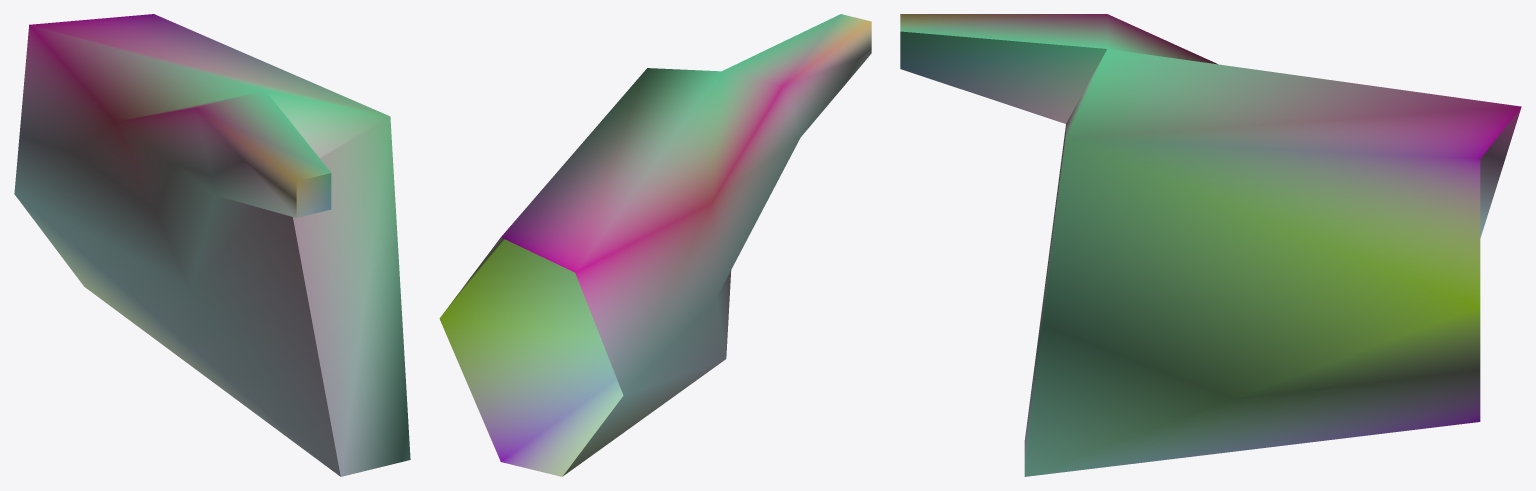
3 renders of one model, left to right at view 1: azimuth 30°, elevation 25°; view 2: azimuth 150°, elevation 25°; view 3: azimuth 270°, elevation 25°, orthographic. The views are drawn at different scales.
Visible parts, largest first — view 1: part; view 2: part; view 3: part.
Part boxes in pixels (<box>): part: <box>14,14,410,476</box>; part: <box>439,14,871,476</box>; part: <box>900,14,1521,476</box>.
Size of the model in its own units: 6 by 10 by 15.
